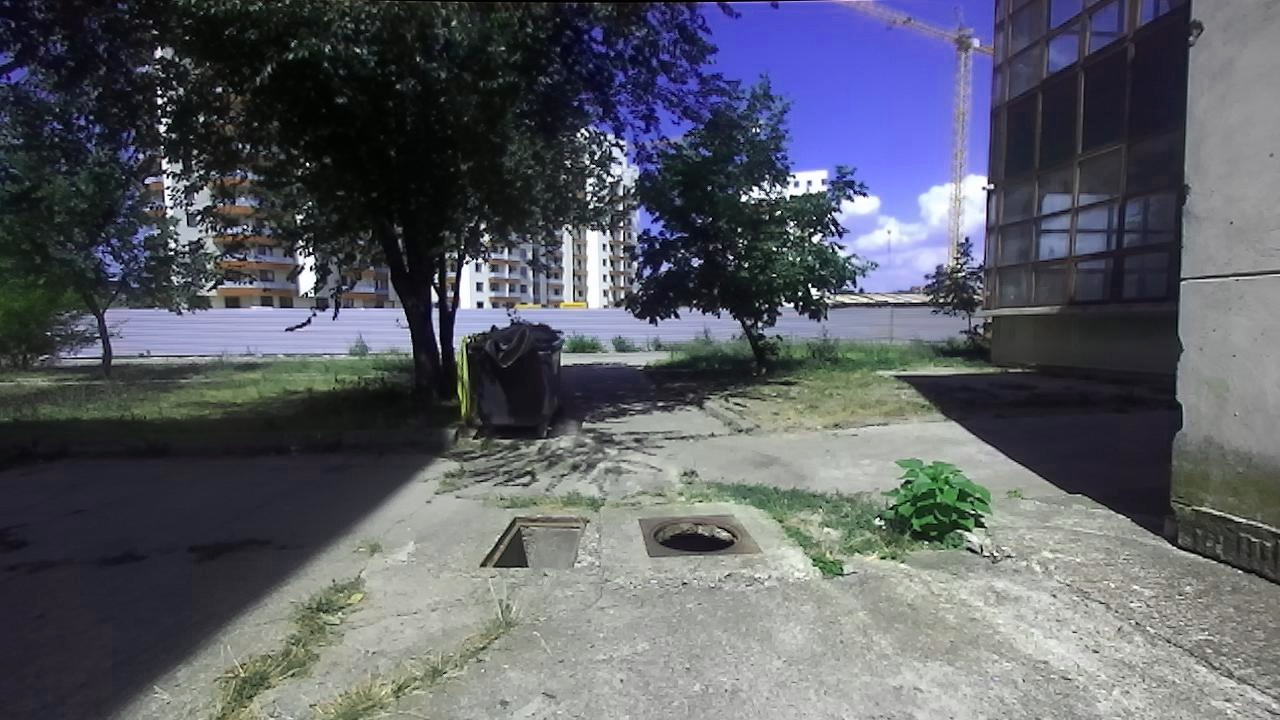drain: (475, 513, 591, 572), (651, 516, 743, 558)
